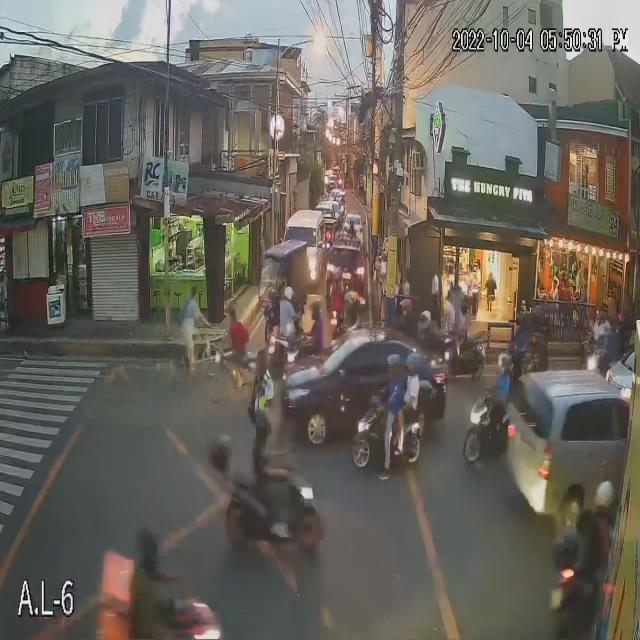helmet: (130, 519, 170, 563), (247, 412, 282, 449), (397, 349, 432, 381), (590, 480, 617, 515), (384, 352, 408, 387), (490, 351, 517, 379), (412, 308, 437, 330), (589, 303, 608, 331), (278, 277, 300, 300), (395, 296, 412, 321), (332, 261, 347, 283), (309, 301, 320, 319)
motorcycle: (218, 456, 324, 556), (96, 589, 224, 640), (546, 556, 626, 637), (350, 405, 433, 466), (461, 396, 525, 460), (435, 331, 484, 383), (262, 333, 305, 363), (324, 304, 348, 334)
rider: (130, 516, 176, 622), (242, 406, 287, 495), (587, 473, 619, 571), (397, 351, 427, 413), (378, 349, 402, 420), (492, 348, 518, 411), (301, 296, 328, 355), (588, 302, 616, 358), (452, 292, 478, 343), (417, 304, 442, 351), (279, 283, 302, 332), (397, 289, 417, 340), (330, 263, 348, 310)
